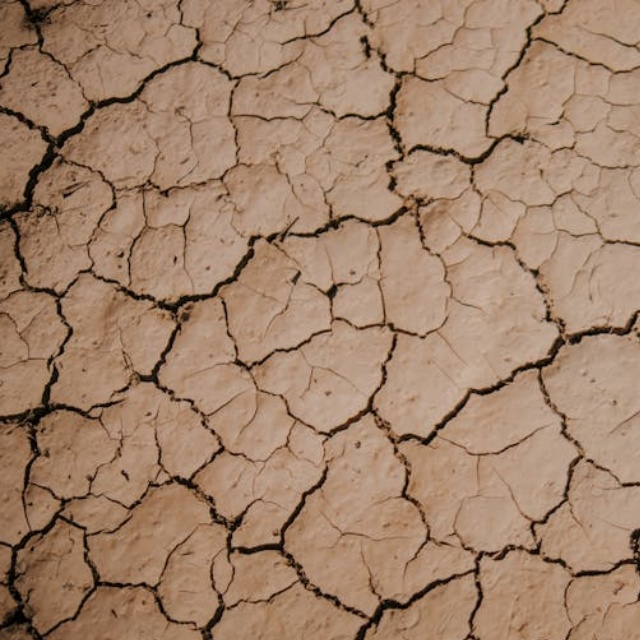细微裂纹: (255, 0, 539, 269), (439, 0, 573, 196)
网状裂隙: (0, 133, 640, 640)
